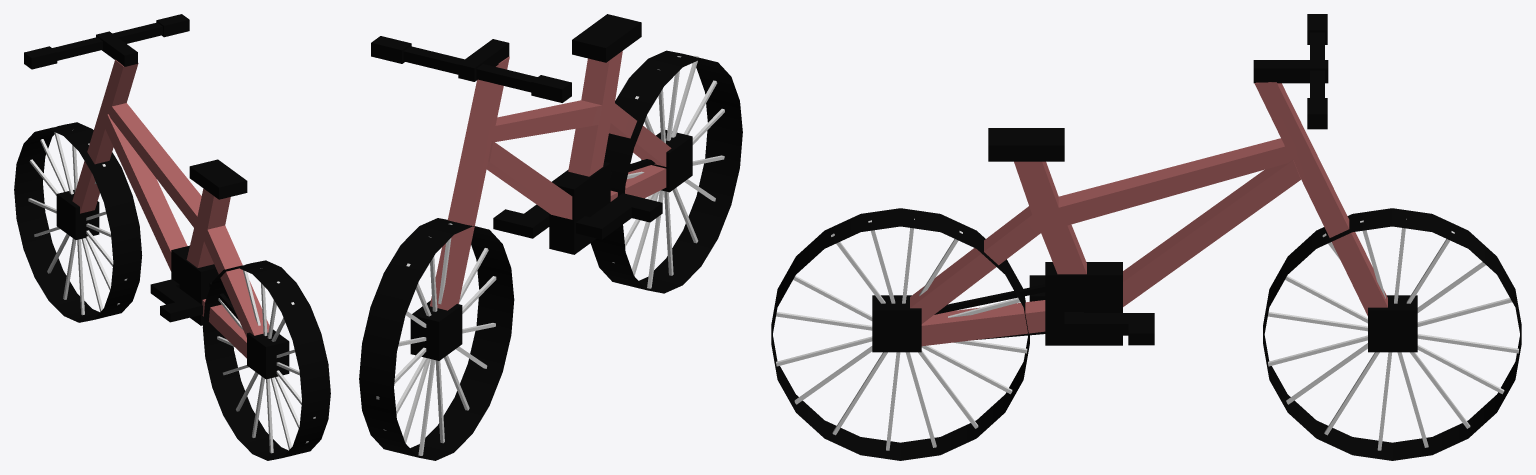
File: Bike.fbx
3 views of the same model, side by side, from view 1: azimuth 30°, elevation 25°; view 2: azimuth 150°, elevation 25°; view 3: azimuth 270°, elevation 25° (orthographic). The views are drawn at different scales.
Parts seen in each view (by area): view 1: pCube1; view 2: pCube1; view 3: pCube1.
Boxes of the visible parts, box(x1,y1,x2,y2) form: pCube1: box(14, 14, 330, 460); pCube1: box(359, 14, 742, 460); pCube1: box(771, 14, 1521, 460).
Size of the model in its own units: 6.72 by 12.09 by 21.22.
